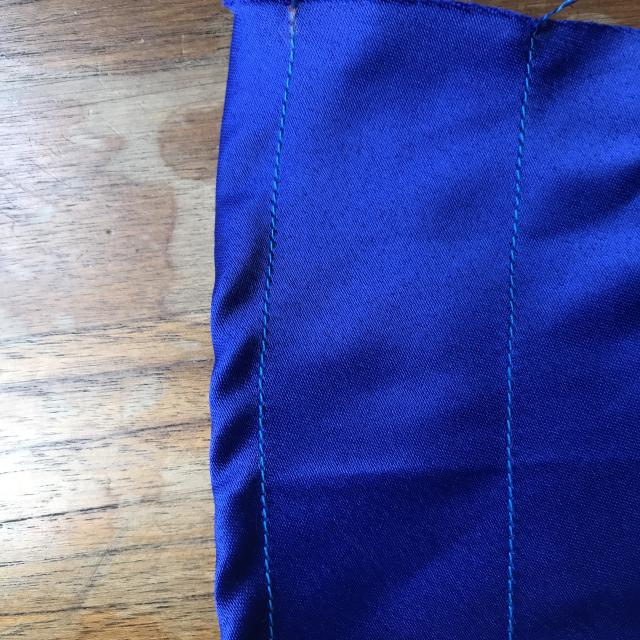good: (496, 180, 533, 441)
